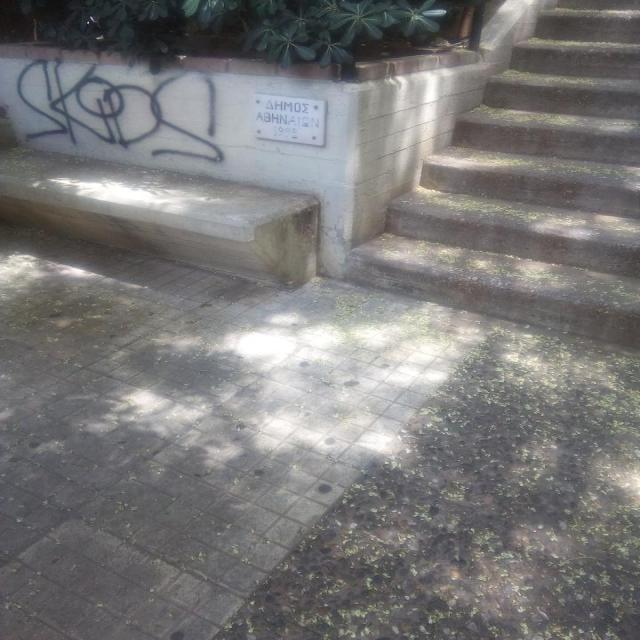nonspitting: (18, 53, 226, 166)
